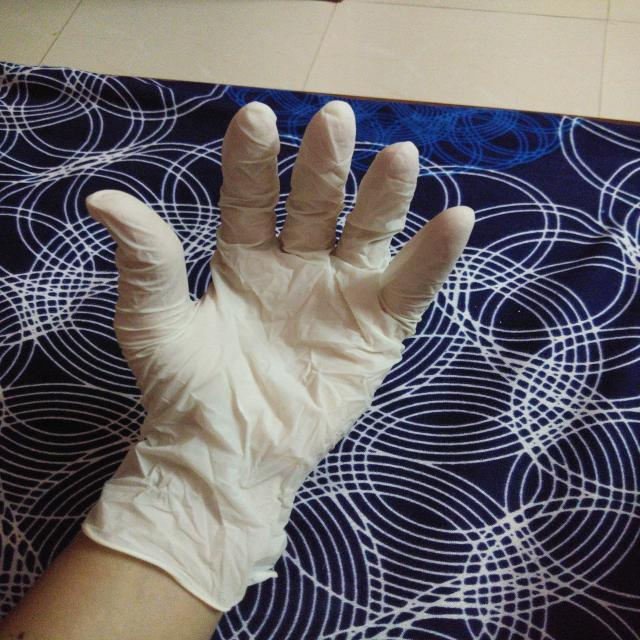glove_hand: (70, 94, 483, 620)
